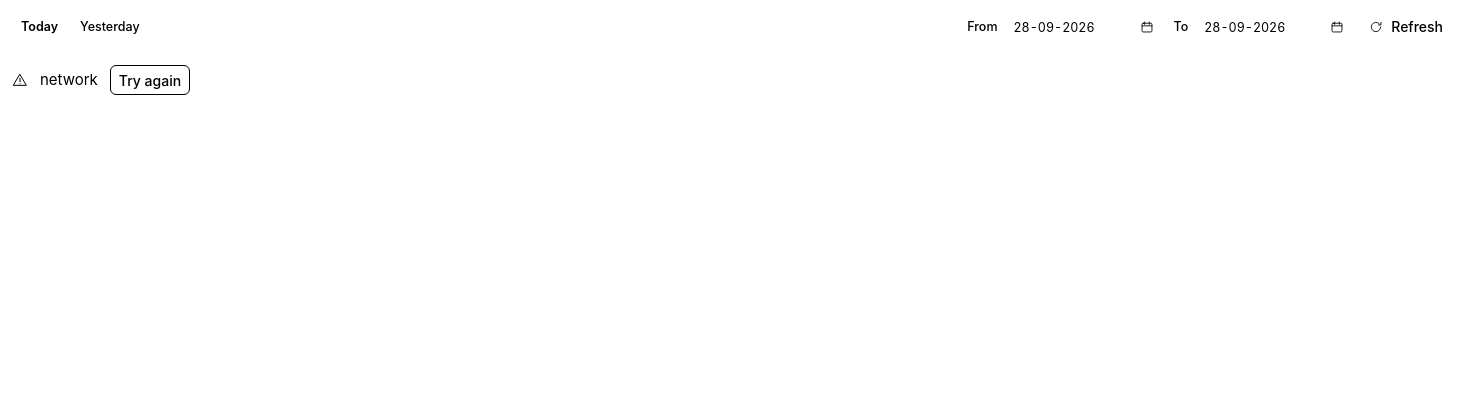
Test case: recovers from a loading failure using Retry
The image size is (1464, 398).
Expected: the message "network Try again" is shown, [12,65,190,95]
Click the button "Try again" at [150, 80], box [110,65,190,95]
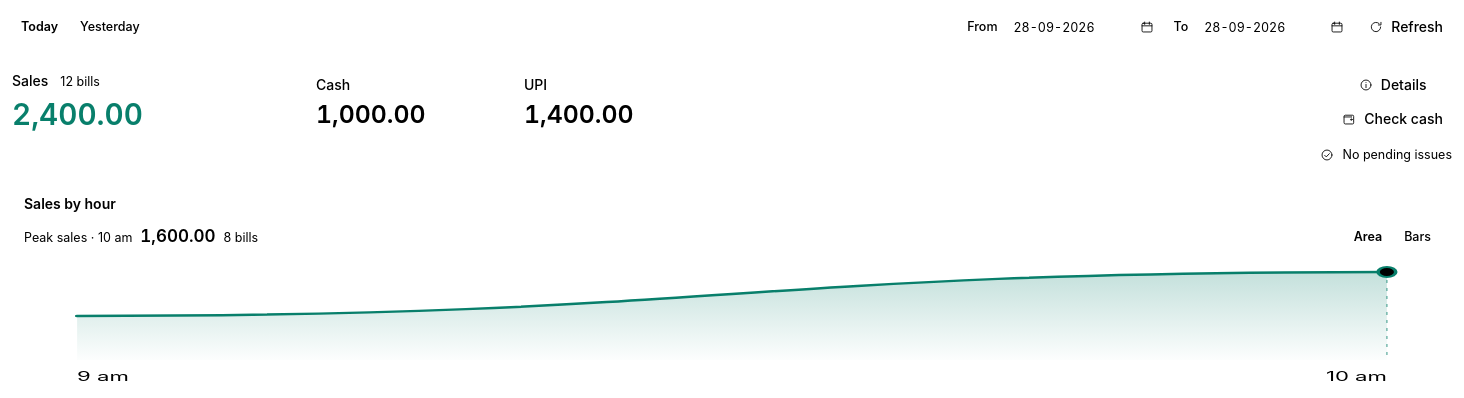
Now the text "2,400.00" is shown, box [12,96,143,132]
